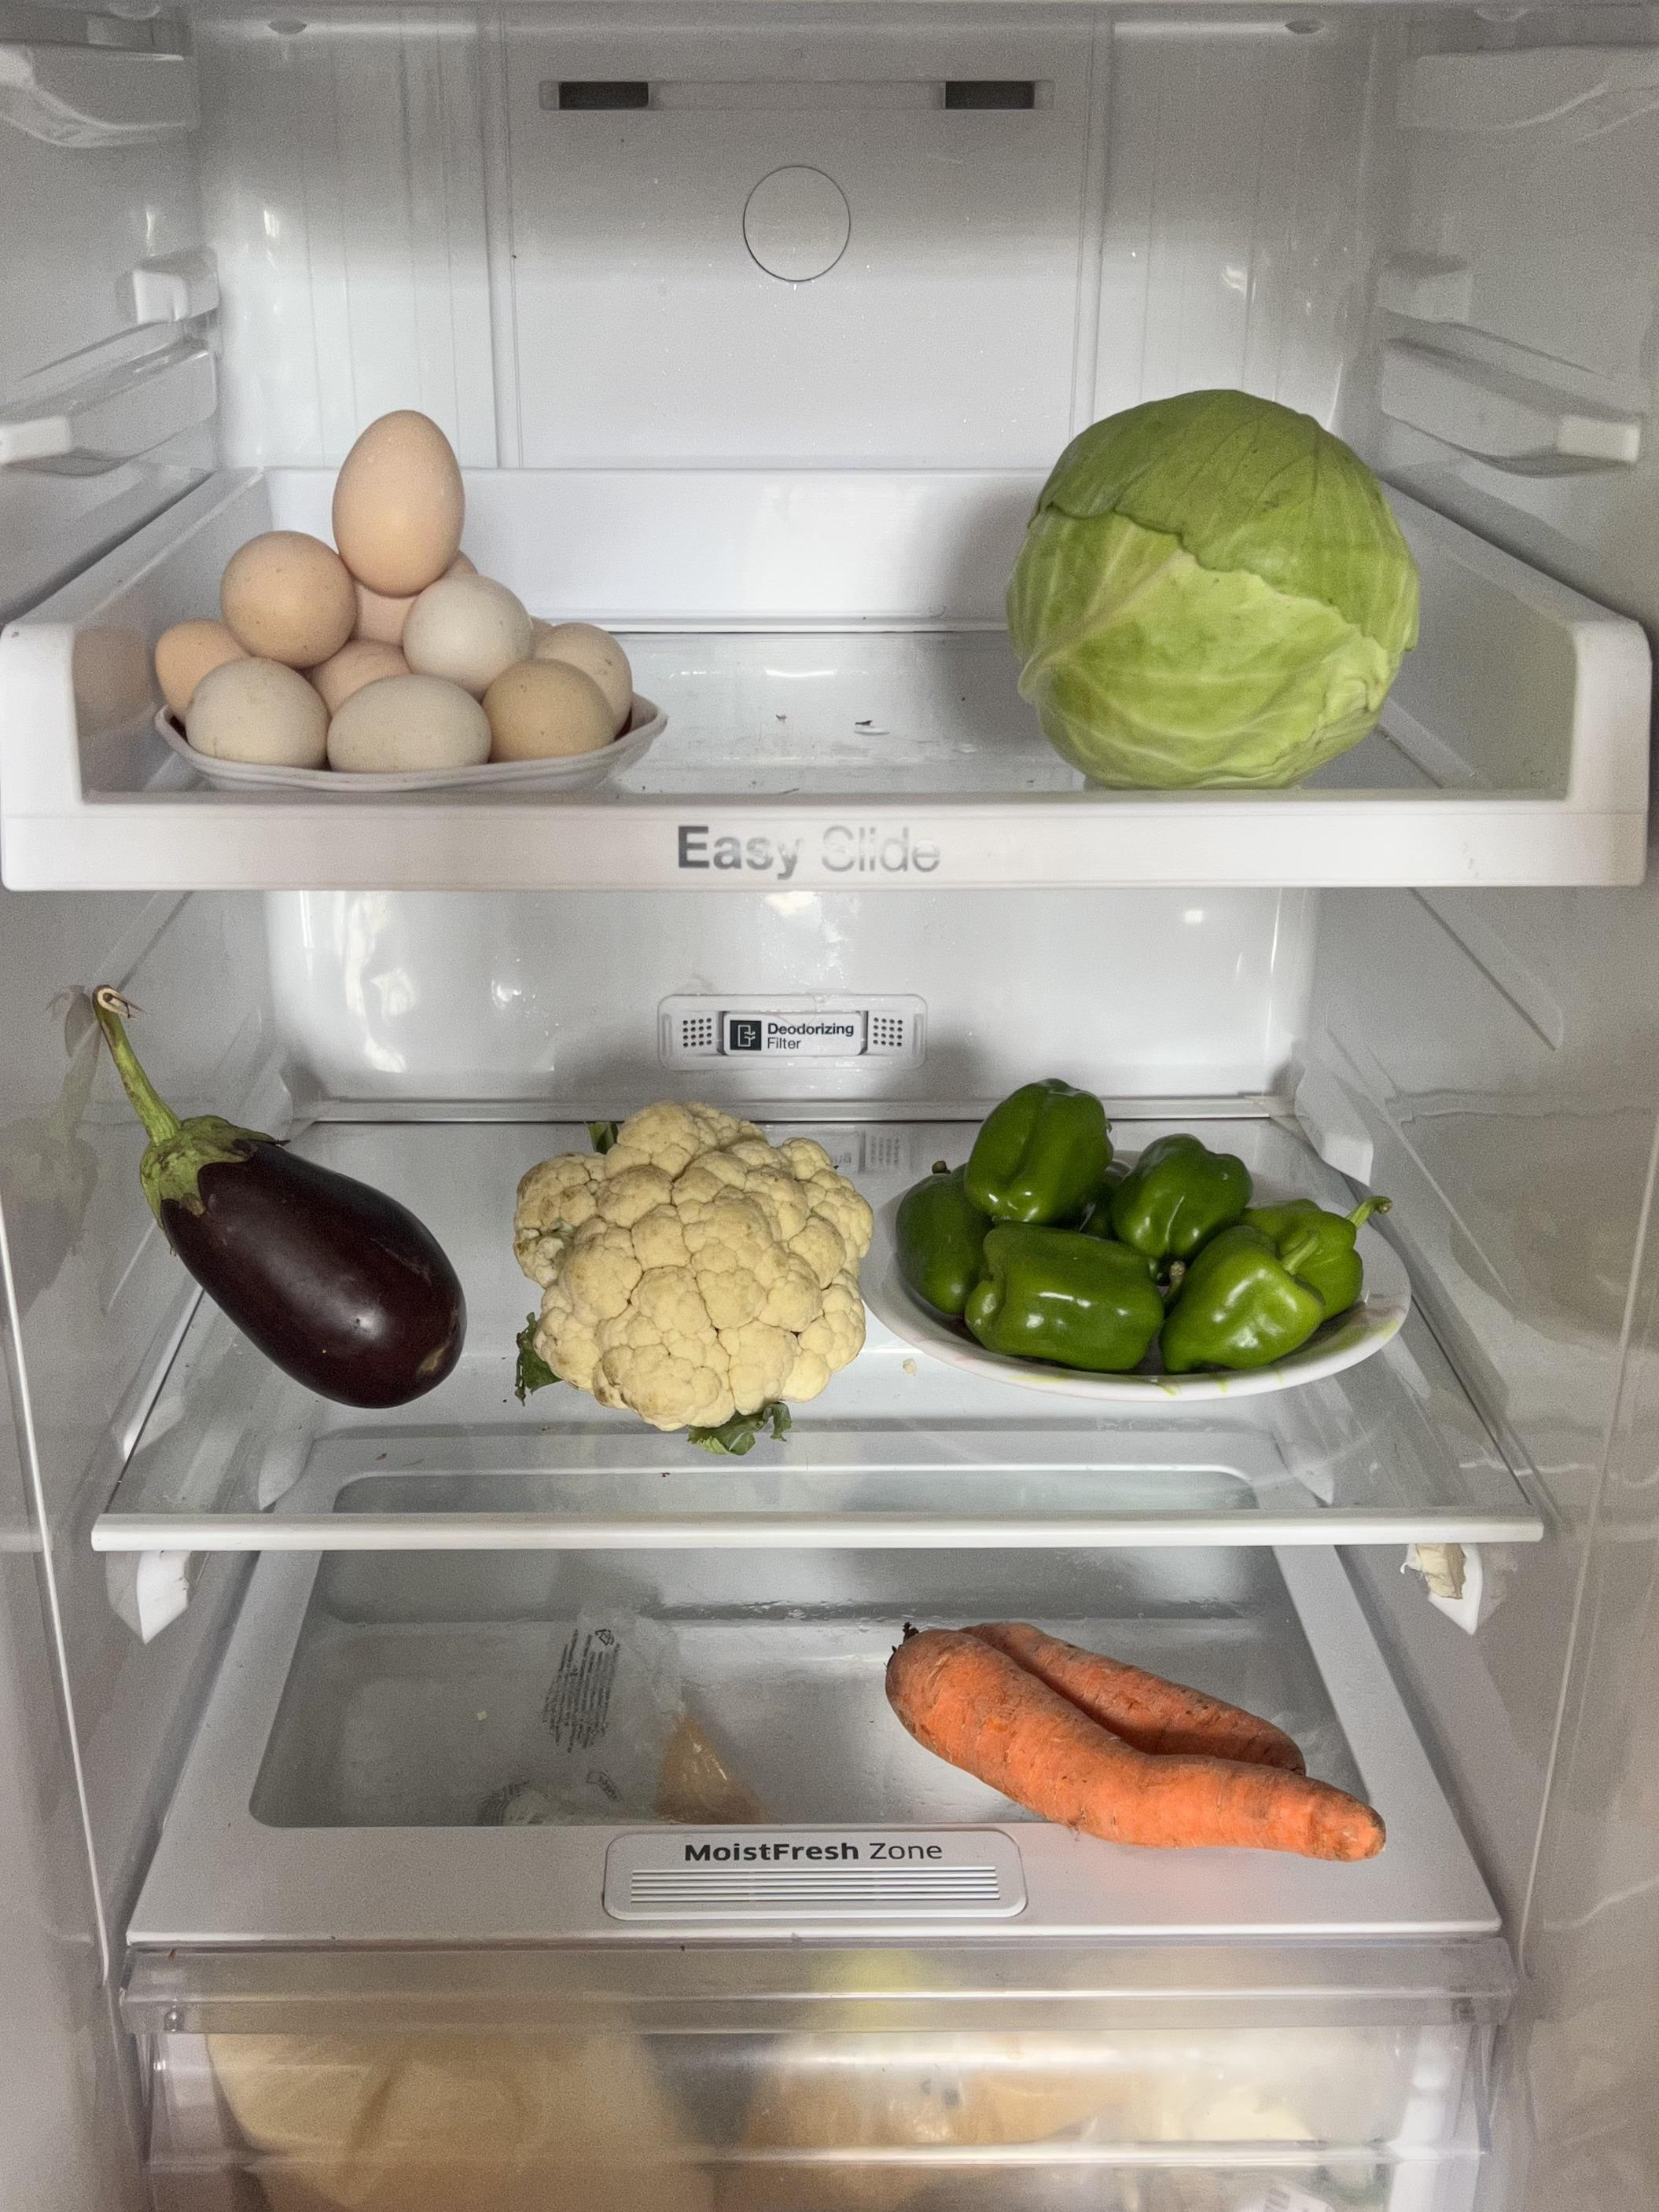bringal: (84, 1003, 465, 1414)
cabbage: (1021, 390, 1420, 786)
capsicum: (908, 1078, 1373, 1379)
cauliflower: (516, 1096, 866, 1421)
egg: (155, 408, 641, 777)
